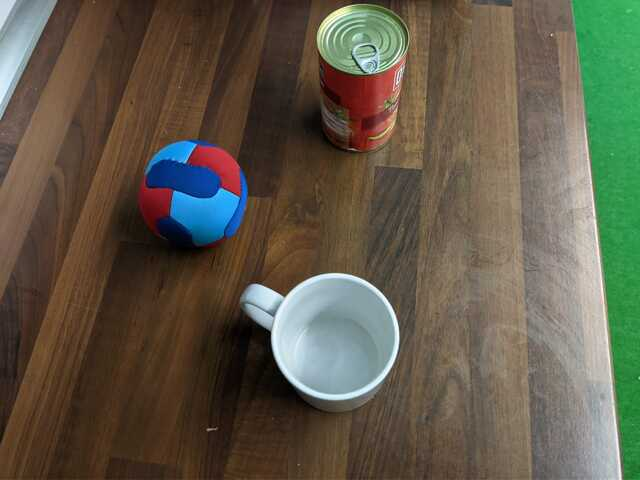005_tomato_soup_can: (314, 4, 413, 156)
025_mug: (233, 268, 402, 416)
057_racquetball: (129, 135, 259, 253)
